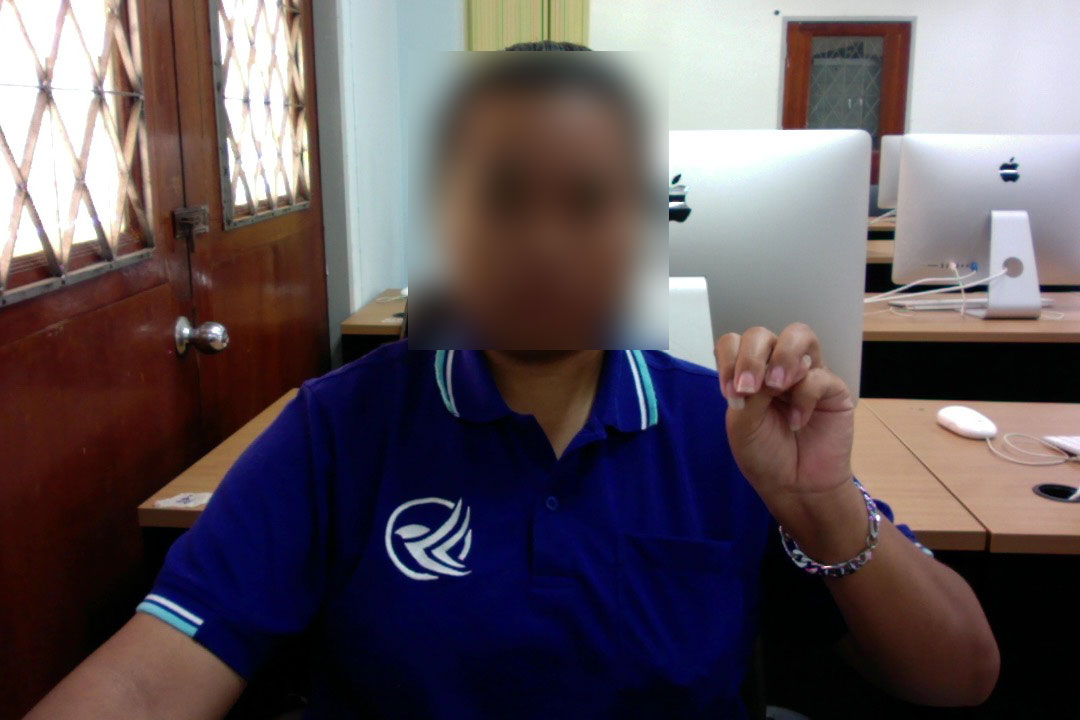mor: (708, 317, 863, 508)
